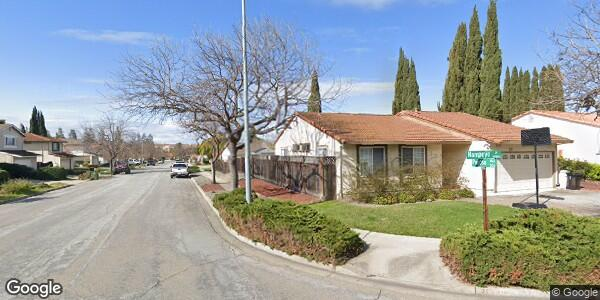Steel_Pole: (238, 1, 255, 203)
